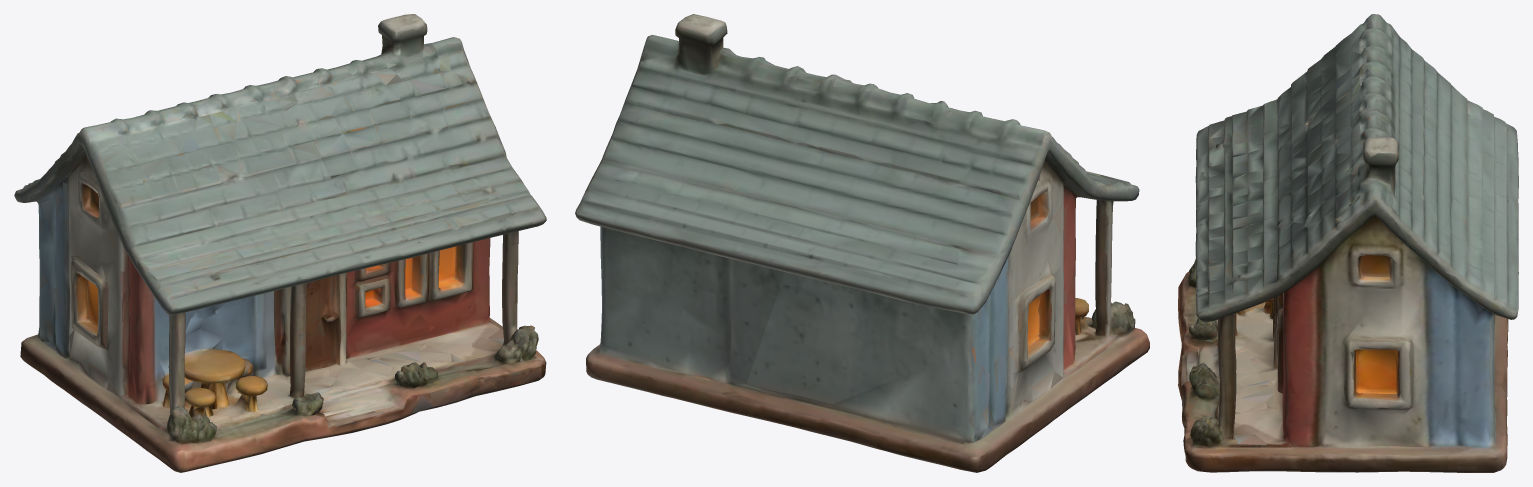
Rendered from sc-home-family.glb.
3 renders of one model, left to right at view 1: azimuth 30°, elevation 25°; view 2: azimuth 150°, elevation 25°; view 3: azimuth 270°, elevation 25°, orthographic. The views are drawn at different scales.
Parts seen in each view (by area): view 1: geometry_0; view 2: geometry_0; view 3: geometry_0.
Part boxes in pixels (x1=…): geometry_0: x1=14, y1=14, x2=546, y2=472; geometry_0: x1=575, y1=14, x2=1149, y2=472; geometry_0: x1=1178, y1=14, x2=1518, y2=472.
Size of the model in its own units: 1 by 0.7701 by 0.7735.
1 material, 1 textured.
